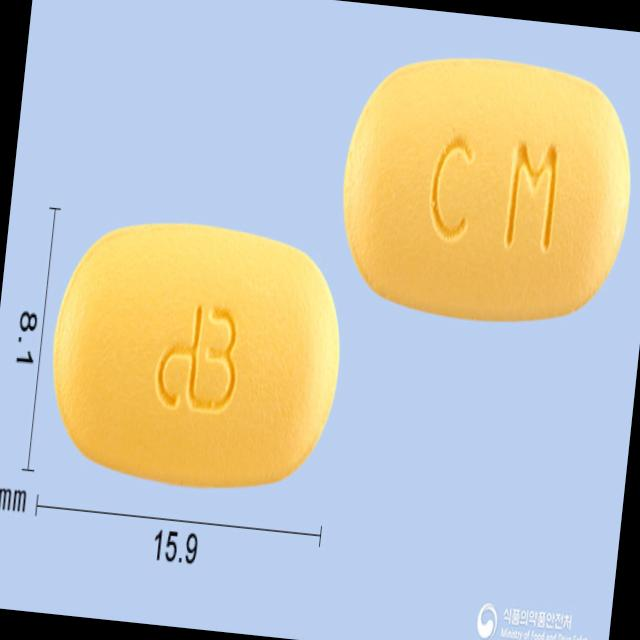Claridon: (36, 200, 355, 508), (327, 38, 640, 343)
